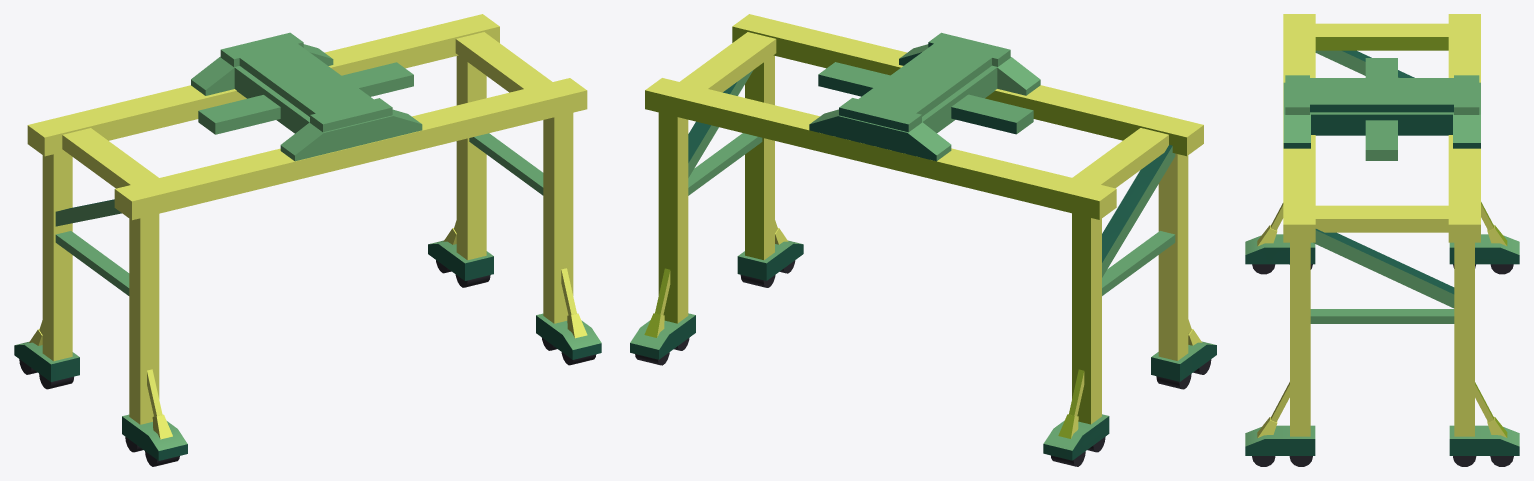
The model's file is CrainSmall.fbx.
3 renders of one model, left to right at view 1: azimuth 30°, elevation 25°; view 2: azimuth 150°, elevation 25°; view 3: azimuth 270°, elevation 25°, orthographic. The views are drawn at different scales.
Parts seen in each view (by area): view 1: CrainSmall; view 2: CrainSmall; view 3: CrainSmall.
Boxes of the visible parts, x1,y1,x2,y2 form: CrainSmall: (14, 14, 601, 466); CrainSmall: (630, 14, 1216, 466); CrainSmall: (1245, 14, 1519, 466).
Size of the model in its own units: 169 by 102 by 92.78.
